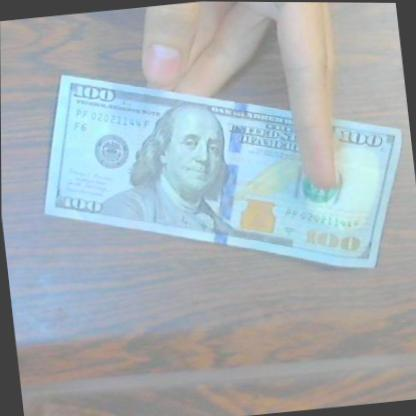dollar_front: (27, 37, 416, 302)
